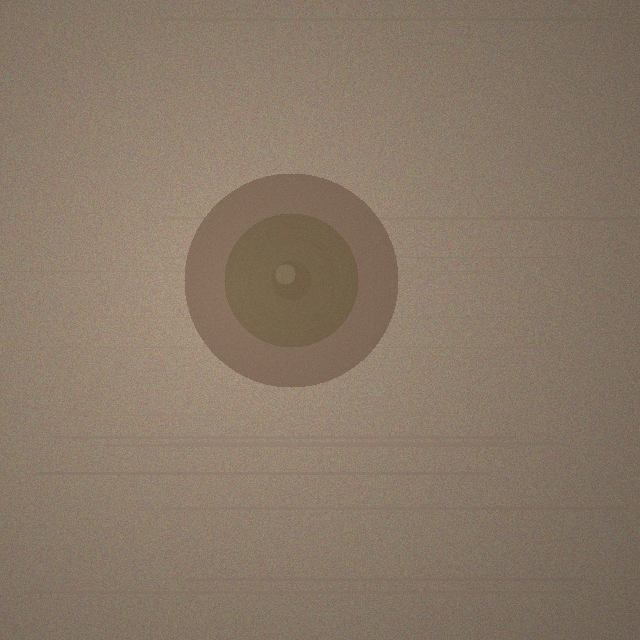good: (184, 173, 398, 387)
